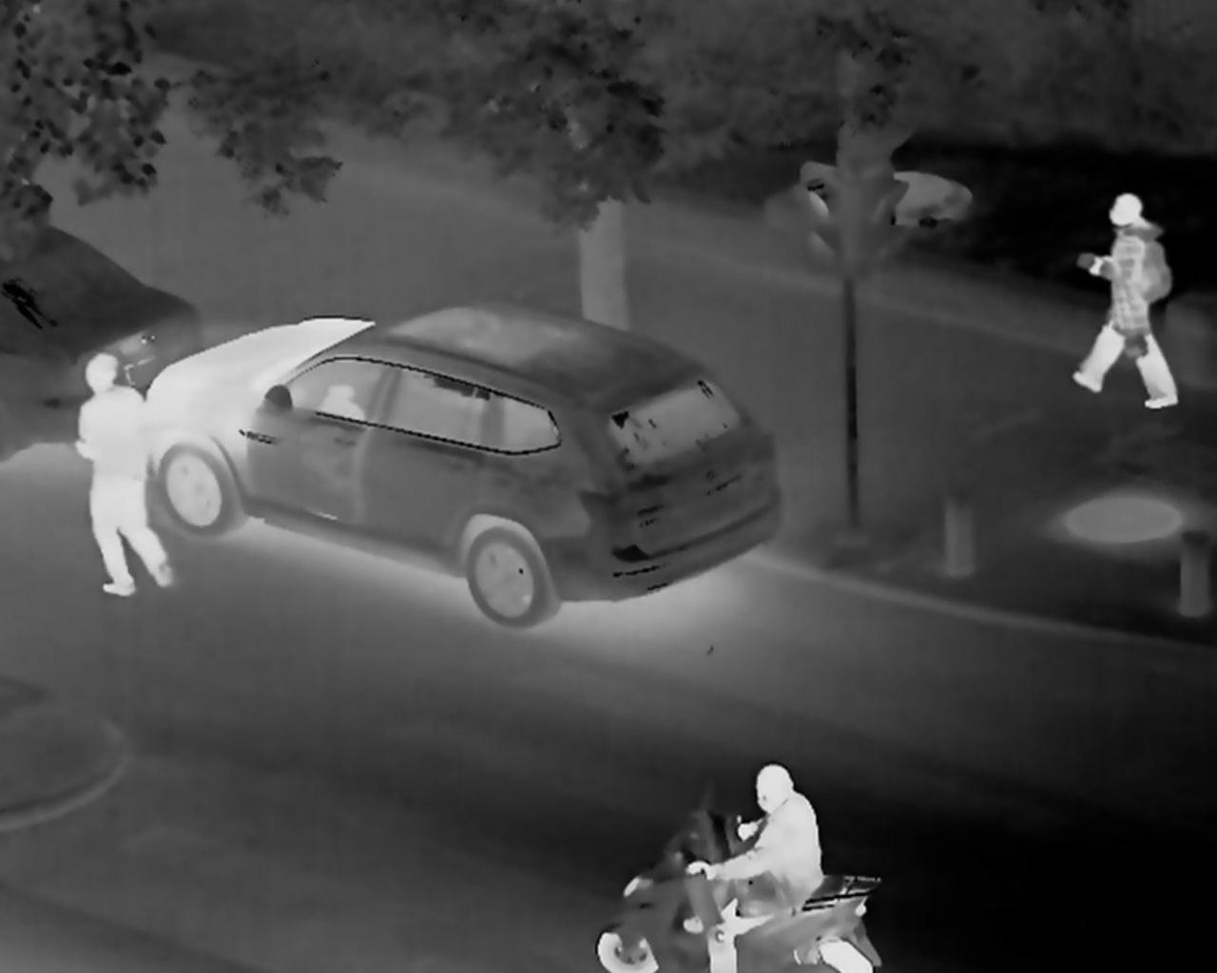person: (58, 339, 202, 606), (691, 751, 852, 969), (1083, 161, 1196, 428)
